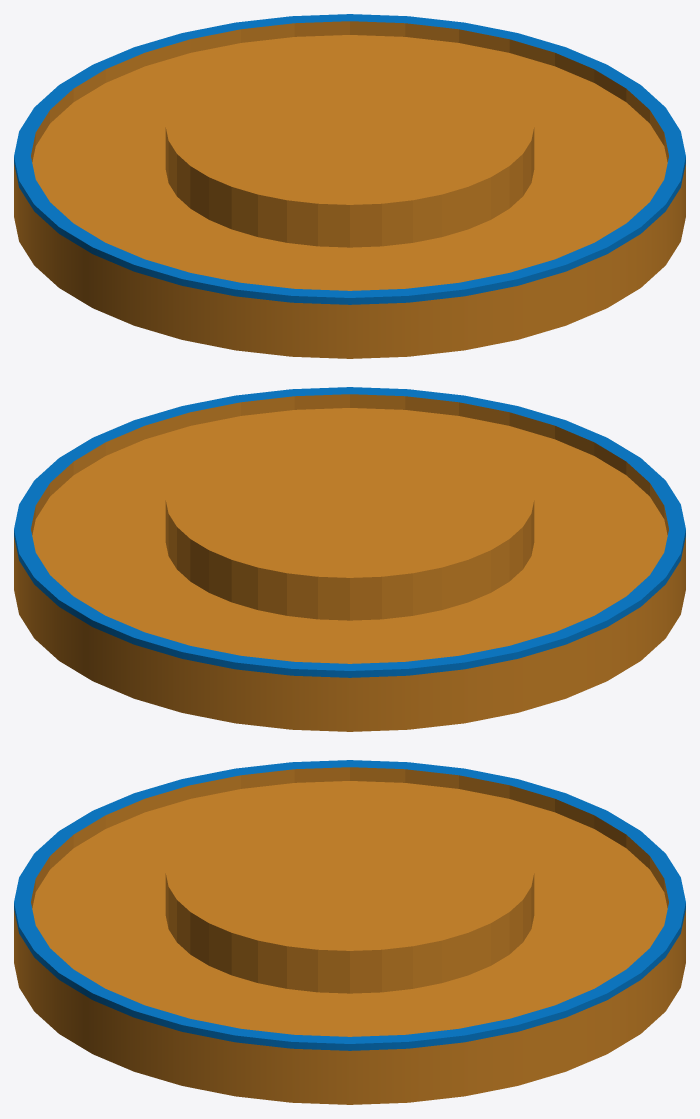
The model's file is Socle_V1.FBX.
3 views of the same model, one above another, from view 1: azimuth 30°, elevation 25°; view 2: azimuth 150°, elevation 25°; view 3: azimuth 270°, elevation 25° (orthographic).
Visible parts, largest first — view 1: Socle Base; view 2: Socle Base; view 3: Socle Base.
Part boxes in pixels (x1,y1,x2,y2): Socle Base: (14, 14, 685, 358); Socle Base: (14, 387, 685, 731); Socle Base: (14, 760, 685, 1104).
Bounding box in the file's own units: 10 × 1.47 × 10.
